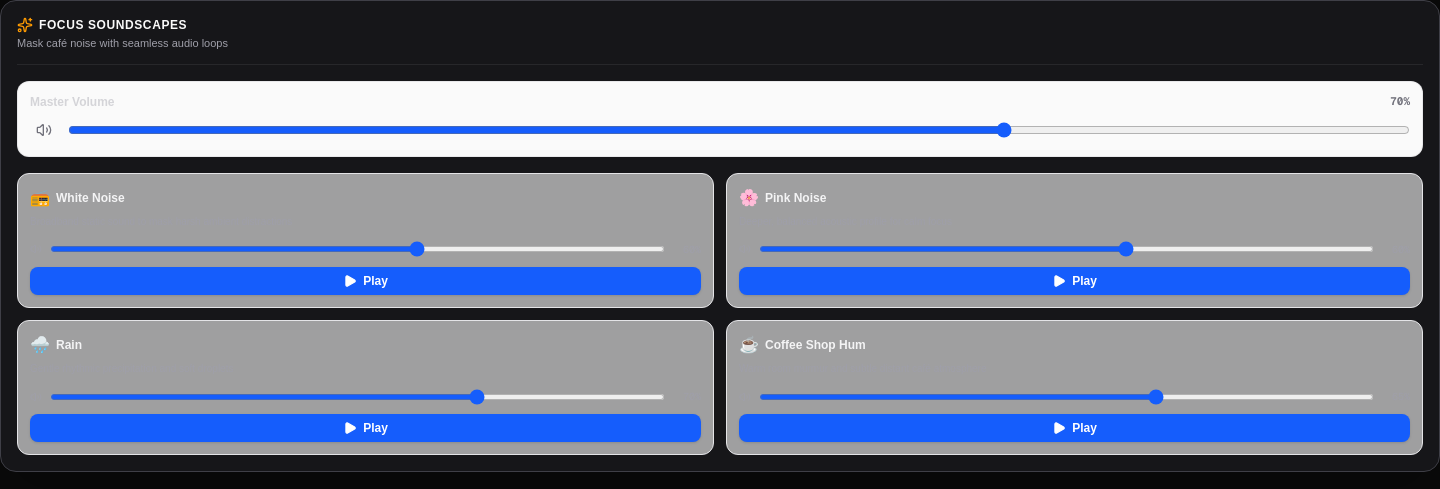
AmbientSoundPlayer - Component UI & Soundscape Controls › toggles play/pause for White Noise and verifies Web Audio API buffer looping
Click the button with test id "play-toggle-white_noise" at (366, 281), box [30,267,701,295]
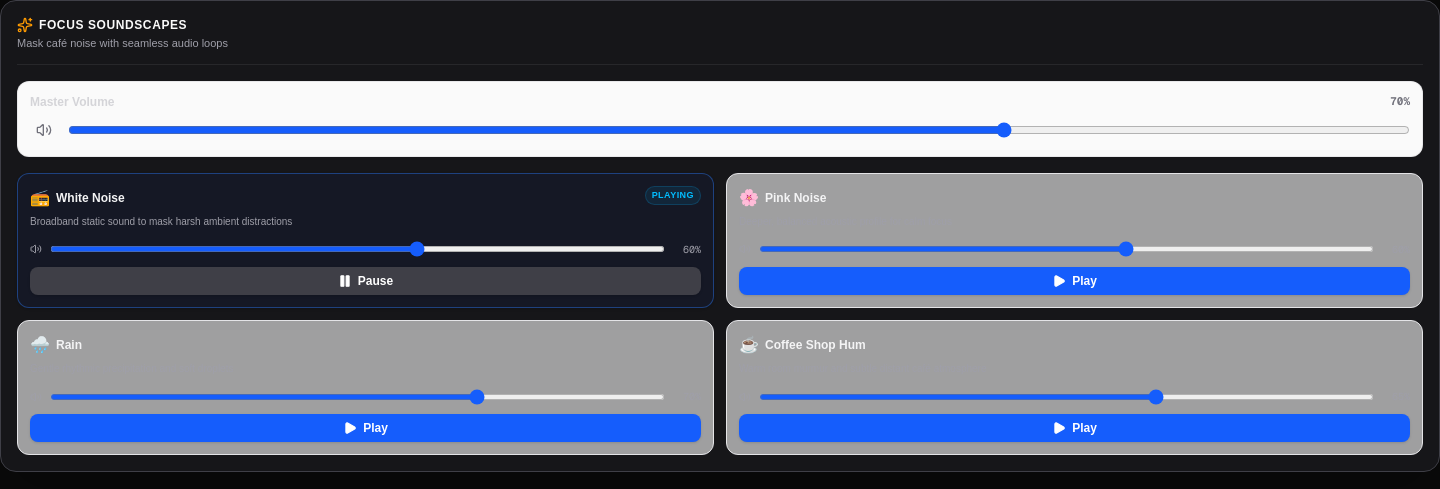
Check: the button with test id "play-toggle-white_noise" reads "Pause"
Check: the text with test id "status-badge-white_noise" reads "Playing", box [652,190,694,200]
// Pause playback
Click the button with test id "play-toggle-white_noise" at (366, 281), box [30,267,701,295]
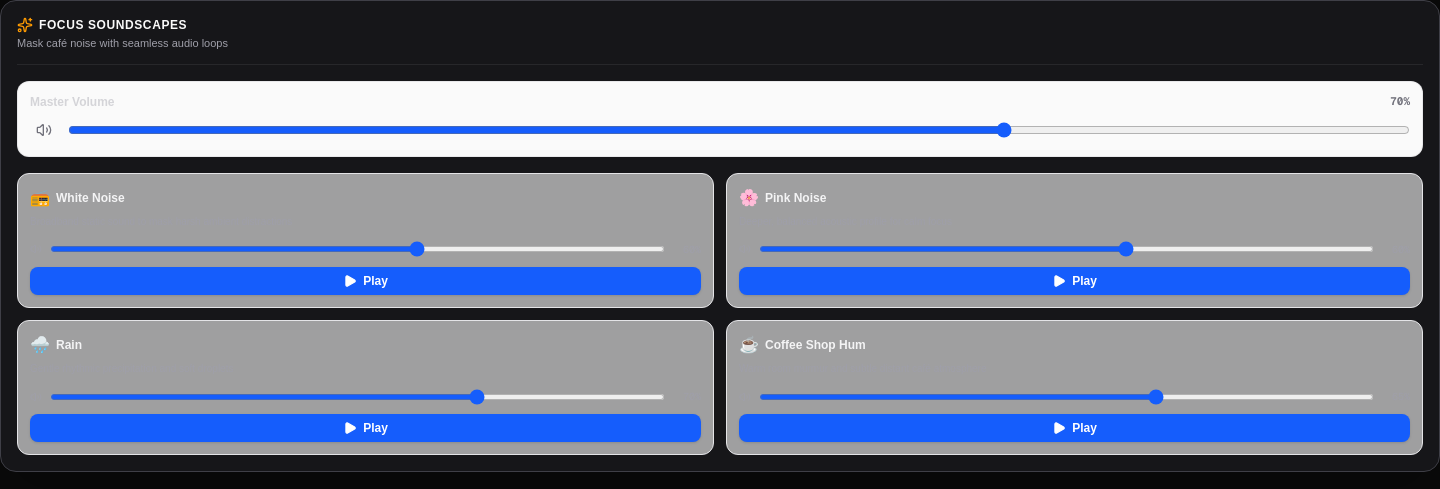
Check: the button with test id "play-toggle-white_noise" reads "Play", box [30,267,701,295]
Check: the text with test id "status-badge-white_noise" is gone
